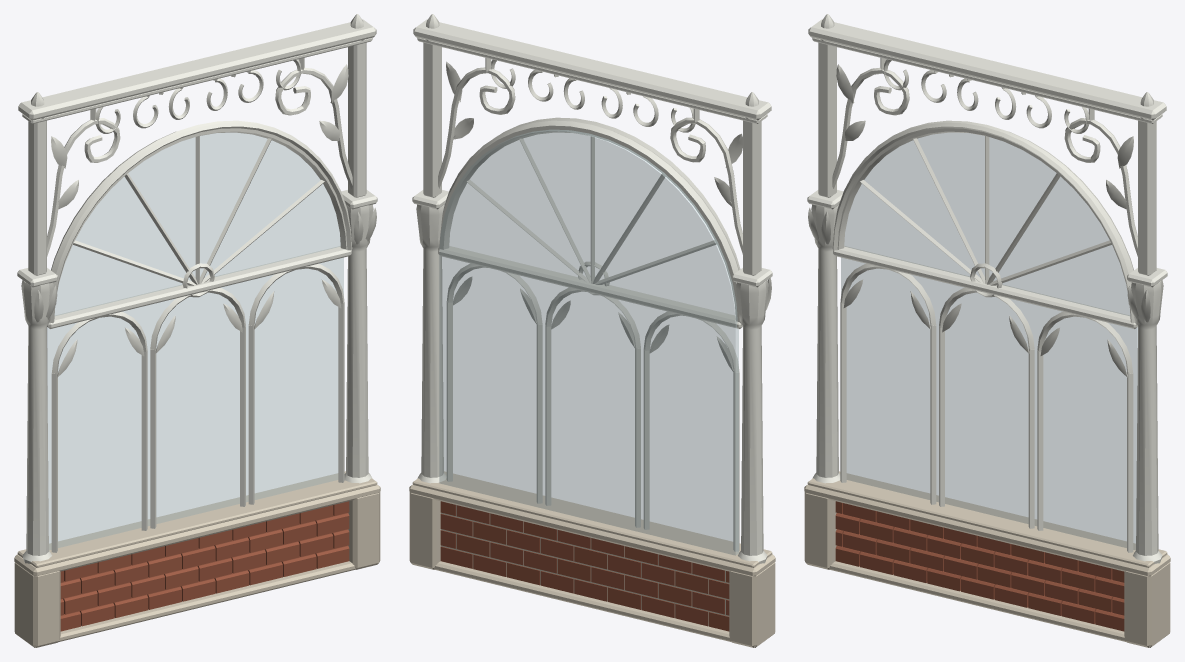
The model's file is ArcadeWall.glb.
3 views of the same model, side by side, from view 1: azimuth 30°, elevation 25°; view 2: azimuth 150°, elevation 25°; view 3: azimuth 330°, elevation 25° (orthographic).
Parts seen in each view (by area): view 1: ArcadeWall_Glass, ArcadeWall_Iron, ArcadeWall_Stone, ArcadeWall_Brick; view 2: ArcadeWall_Glass, ArcadeWall_Iron, ArcadeWall_Stone, ArcadeWall_Brick; view 3: ArcadeWall_Glass, ArcadeWall_Iron, ArcadeWall_Stone, ArcadeWall_Brick.
Part boxes in pixels (x1,y1,x2,y2): ArcadeWall_Glass: (47,132,343,550); ArcadeWall_Iron: (17,14,377,563); ArcadeWall_Stone: (14,471,380,647); ArcadeWall_Brick: (60,501,349,631); ArcadeWall_Glass: (439,129,738,555); ArcadeWall_Iron: (412,14,772,563); ArcadeWall_Stone: (409,471,775,647); ArcadeWall_Brick: (440,501,729,631); ArcadeWall_Glass: (841,132,1137,550); ArcadeWall_Iron: (807,14,1167,563); ArcadeWall_Stone: (804,471,1170,647); ArcadeWall_Brick: (835,501,1124,631).
Bounding box in the file's own units: 12 × 18 × 1.32.
